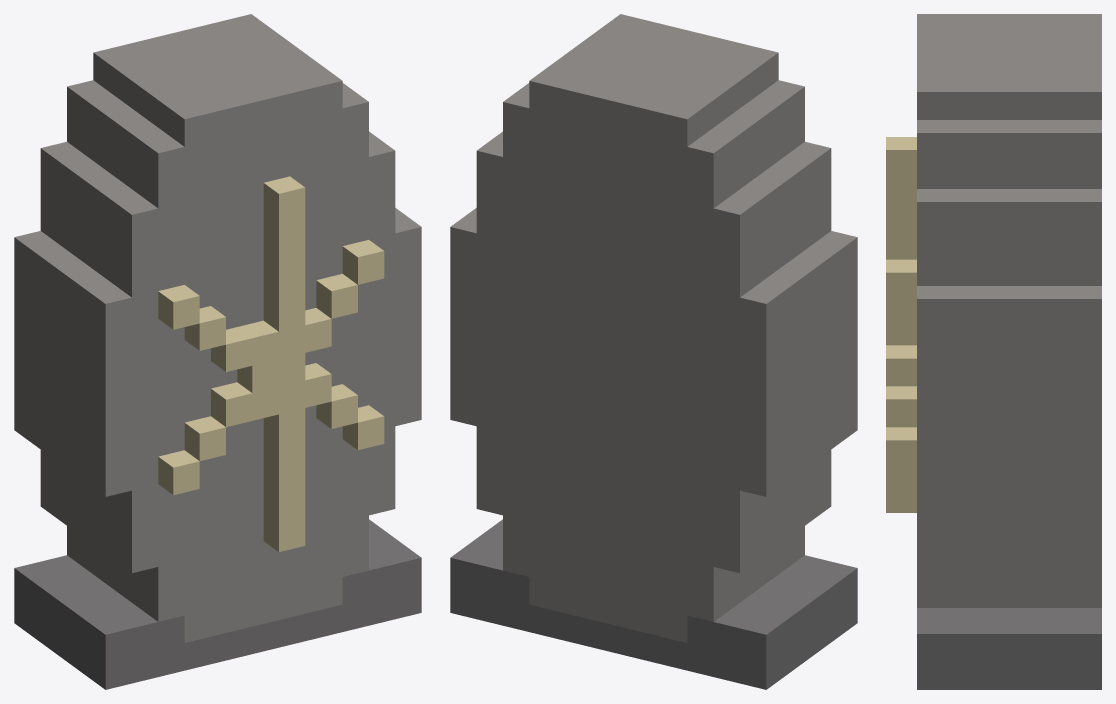
Rendered from mat_ancient_rune.glb.
3 renders of one model, left to right at view 1: azimuth 30°, elevation 25°; view 2: azimuth 150°, elevation 25°; view 3: azimuth 270°, elevation 25°, orthographic.
Visible parts, largest first — view 1: mat_ancient_rune; view 2: mat_ancient_rune; view 3: mat_ancient_rune.
Boxes of the visible parts, x1,y1,x2,y2 form: mat_ancient_rune: (14, 14, 421, 689); mat_ancient_rune: (450, 14, 857, 689); mat_ancient_rune: (886, 14, 1101, 689).
Bounding box in the file's own units: 0.144 × 0.24 × 0.084.
